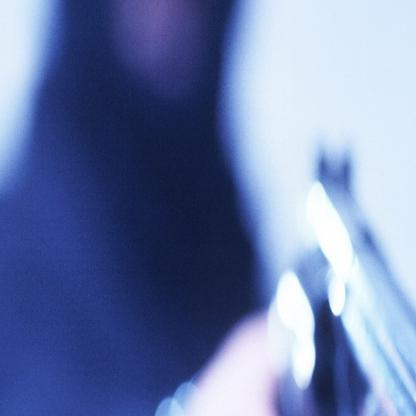gun: (270, 130, 416, 415)
